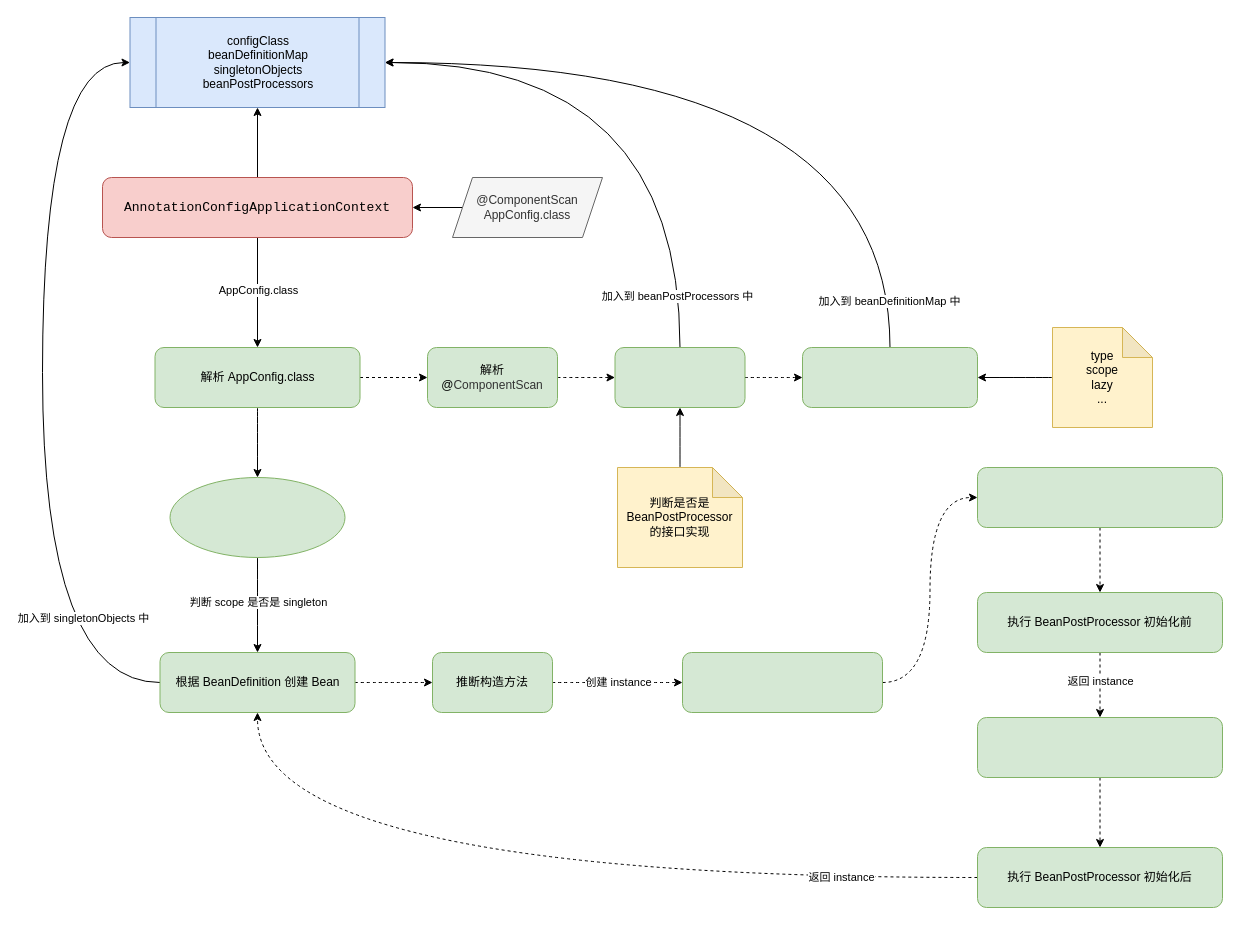
Some shapes in this 1240 by 925 pixel diagram are drawn without their labels. Each missing label, with the centre of its shape:
处理 @Autowried 注解的属性: (x=782, y=682)
将 @Comonent 注解的 Class 注册为 BeanDefinition: (x=890, y=377)
循环 beanDefinitionMap: (x=257, y=517)
执行实现 Aware 接口的的方法: (x=1099, y=497)
执行实现 InitializingBean 接口的的方法: (x=1099, y=747)
解析 BeanPostProcessor: (x=679, y=377)
